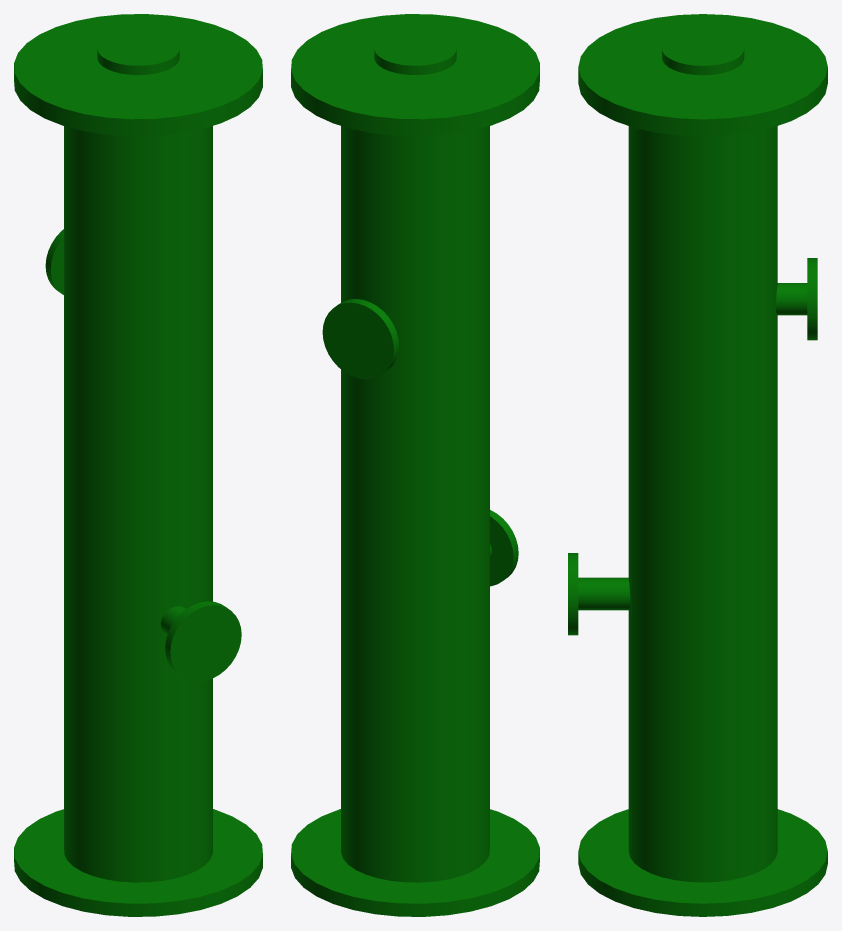
Rendered from Image-1710907768388-2281130356720_62-CB51A.fbx.
The picture shows the model from 3 angles, left to right: view 1: azimuth 30°, elevation 25°; view 2: azimuth 150°, elevation 25°; view 3: azimuth 270°, elevation 25°; orthographic projection.
Parts seen in each view (by area): view 1: CYLINDER 2 of SUBEQUIPMENT /62-CB51A/PRIM, CYLINDER 3 of SUBEQUIPMENT /62-CB51A/PRIM, CYLINDER 1 of SUBEQUIPMENT /62-CB51A/PRIM, /62-CB51A/N2, /62-CB51A/N4, /62-CB51A/N1; view 2: CYLINDER 2 of SUBEQUIPMENT /62-CB51A/PRIM, CYLINDER 3 of SUBEQUIPMENT /62-CB51A/PRIM, CYLINDER 1 of SUBEQUIPMENT /62-CB51A/PRIM, /62-CB51A/N1, /62-CB51A/N4, /62-CB51A/N2; view 3: CYLINDER 2 of SUBEQUIPMENT /62-CB51A/PRIM, CYLINDER 3 of SUBEQUIPMENT /62-CB51A/PRIM, CYLINDER 1 of SUBEQUIPMENT /62-CB51A/PRIM, /62-CB51A/N4, /62-CB51A/N2, /62-CB51A/N1.
Boxes of the visible parts, box(x1,y1,x2,y2) form: CYLINDER 2 of SUBEQUIPMENT /62-CB51A/PRIM: box(64, 126, 212, 882); CYLINDER 3 of SUBEQUIPMENT /62-CB51A/PRIM: box(14, 14, 262, 136); CYLINDER 1 of SUBEQUIPMENT /62-CB51A/PRIM: box(14, 809, 262, 916); /62-CB51A/N2: box(160, 601, 241, 681); /62-CB51A/N4: box(97, 31, 179, 74); /62-CB51A/N1: box(45, 229, 63, 294); CYLINDER 2 of SUBEQUIPMENT /62-CB51A/PRIM: box(341, 126, 489, 882); CYLINDER 3 of SUBEQUIPMENT /62-CB51A/PRIM: box(291, 14, 539, 136); CYLINDER 1 of SUBEQUIPMENT /62-CB51A/PRIM: box(291, 809, 539, 916); /62-CB51A/N1: box(322, 299, 398, 379); /62-CB51A/N4: box(374, 31, 456, 74); /62-CB51A/N2: box(490, 510, 518, 586); CYLINDER 2 of SUBEQUIPMENT /62-CB51A/PRIM: box(628, 126, 777, 882); CYLINDER 3 of SUBEQUIPMENT /62-CB51A/PRIM: box(578, 14, 827, 136); CYLINDER 1 of SUBEQUIPMENT /62-CB51A/PRIM: box(578, 809, 827, 916); /62-CB51A/N4: box(662, 31, 744, 75); /62-CB51A/N2: box(568, 553, 630, 635); /62-CB51A/N1: box(775, 258, 817, 340).
Bounding box in the file's own units: 0.46 × 0.479 × 1.66.
